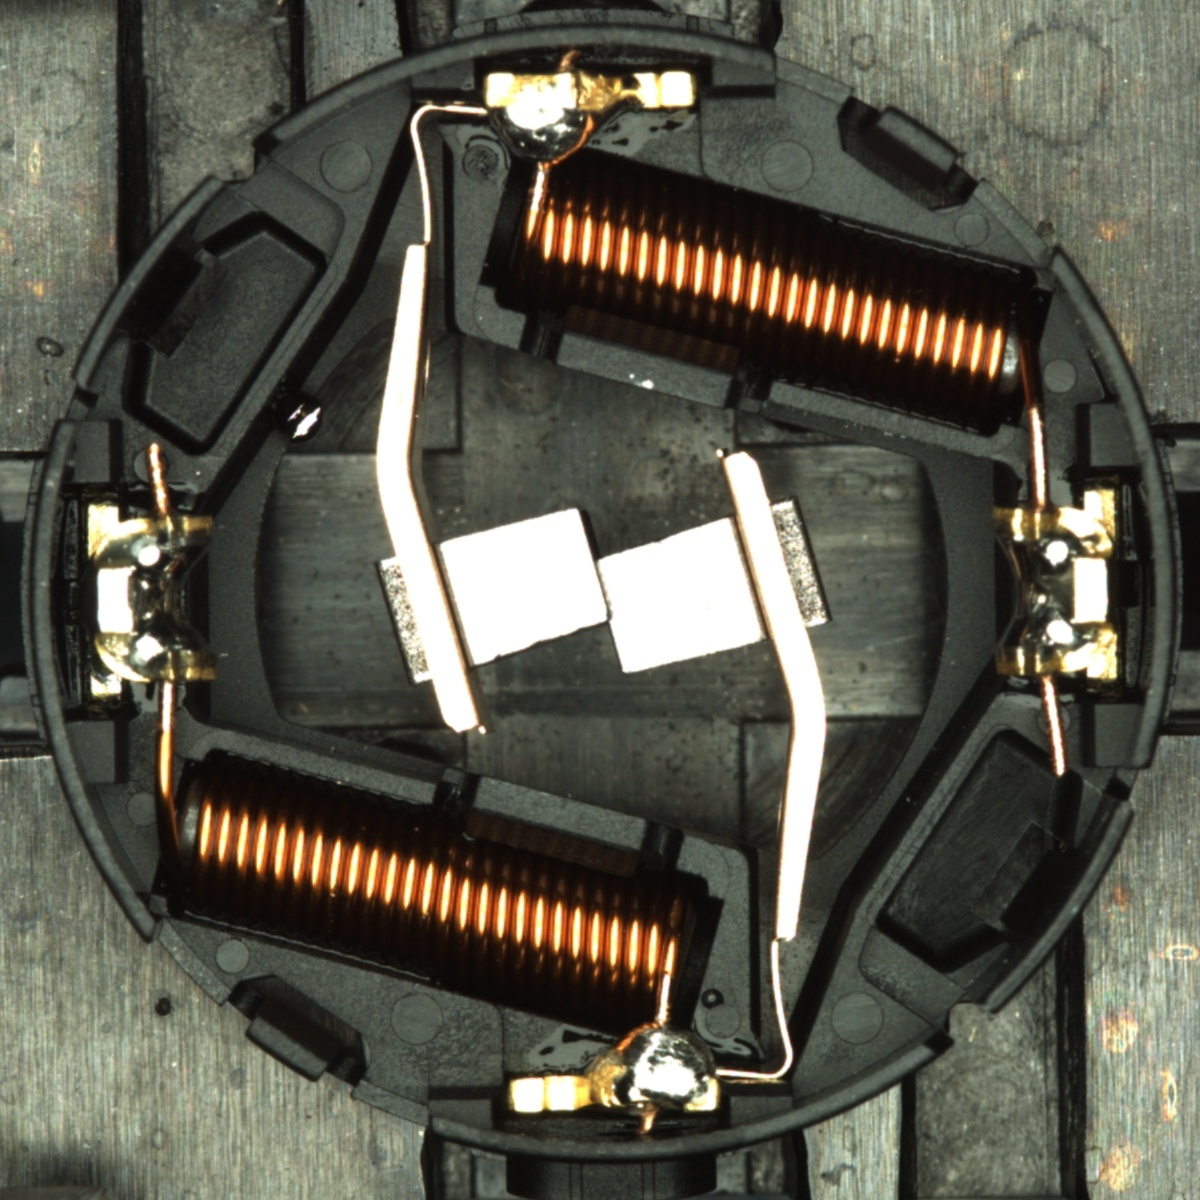1: (255, 30, 484, 254), (714, 928, 943, 1152)
2: (714, 30, 943, 254), (255, 928, 484, 1152)
3: (26, 254, 255, 479), (943, 703, 1172, 928)
4: (255, 254, 484, 479), (714, 703, 943, 928)
5: (484, 142, 714, 367), (484, 815, 714, 1040)
6: (714, 254, 943, 479), (255, 703, 484, 928)
7: (943, 254, 1172, 479), (26, 703, 255, 928)
cacbon: (396, 497, 802, 685)
chau_dien: (81, 498, 222, 700), (984, 487, 1125, 687)
hat_chi: (276, 392, 324, 444)
tay_choi: (481, 69, 700, 171), (508, 1018, 721, 1117)
thanh_de: (954, 787, 1141, 1030), (58, 163, 245, 404)
